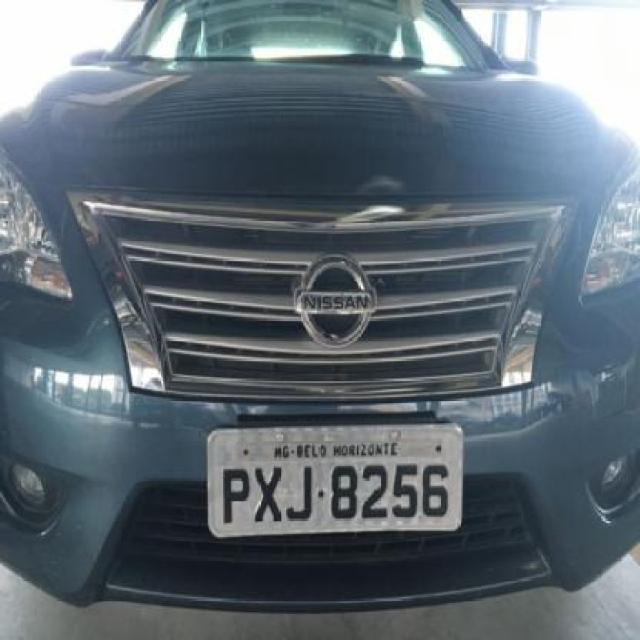old_plate: (201, 417, 471, 541)
